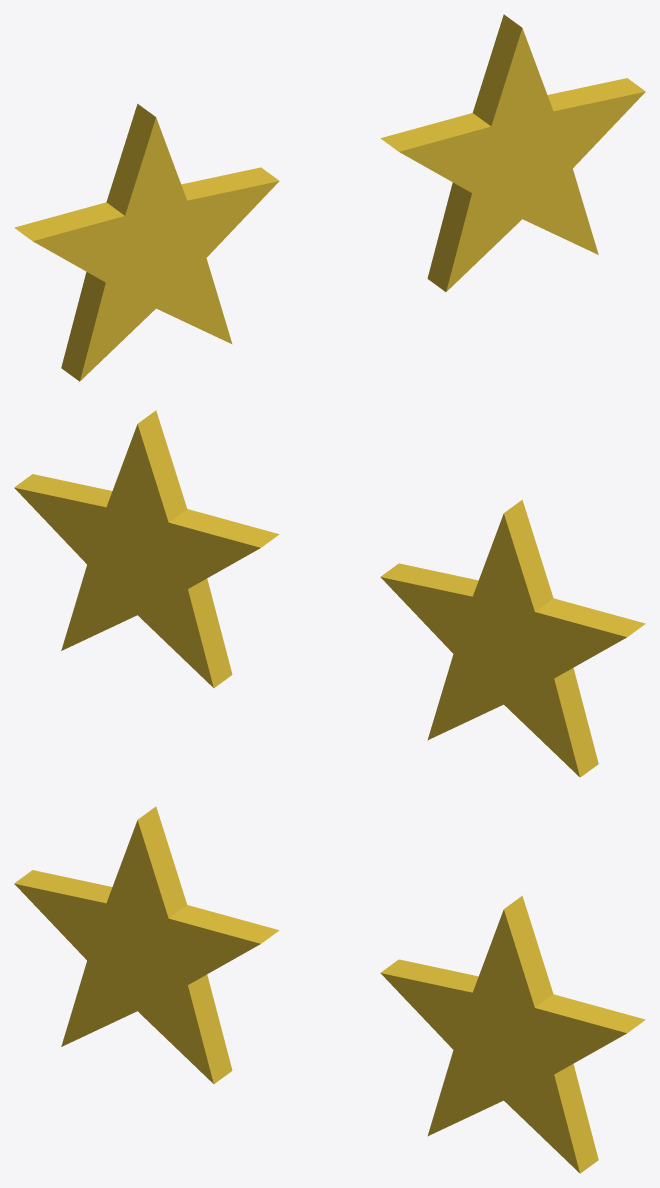
Rendered from Bintang2.fbx.
3 renders of one model, top to bottom at view 1: azimuth 30°, elevation 25°; view 2: azimuth 150°, elevation 25°; view 3: azimuth 330°, elevation 25°, orthographic.
Parts seen in each view (by area): view 1: Cylinder.002, Cylinder.001; view 2: Cylinder.002, Cylinder.001; view 3: Cylinder.001, Cylinder.002.
Boxes of the visible parts, <box> form: Cylinder.002: <box>380,14,645,291</box>; Cylinder.001: <box>14,103,279,381</box>; Cylinder.002: <box>14,410,279,687</box>; Cylinder.001: <box>380,499,645,777</box>; Cylinder.001: <box>14,806,279,1083</box>; Cylinder.002: <box>380,895,645,1173</box>.
Bounding box in the file's own units: 63.27 × 24.24 × 3.33.
